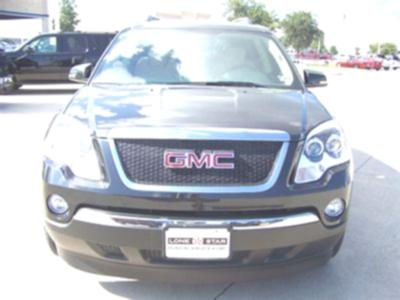GMC: (151, 149, 244, 175)
